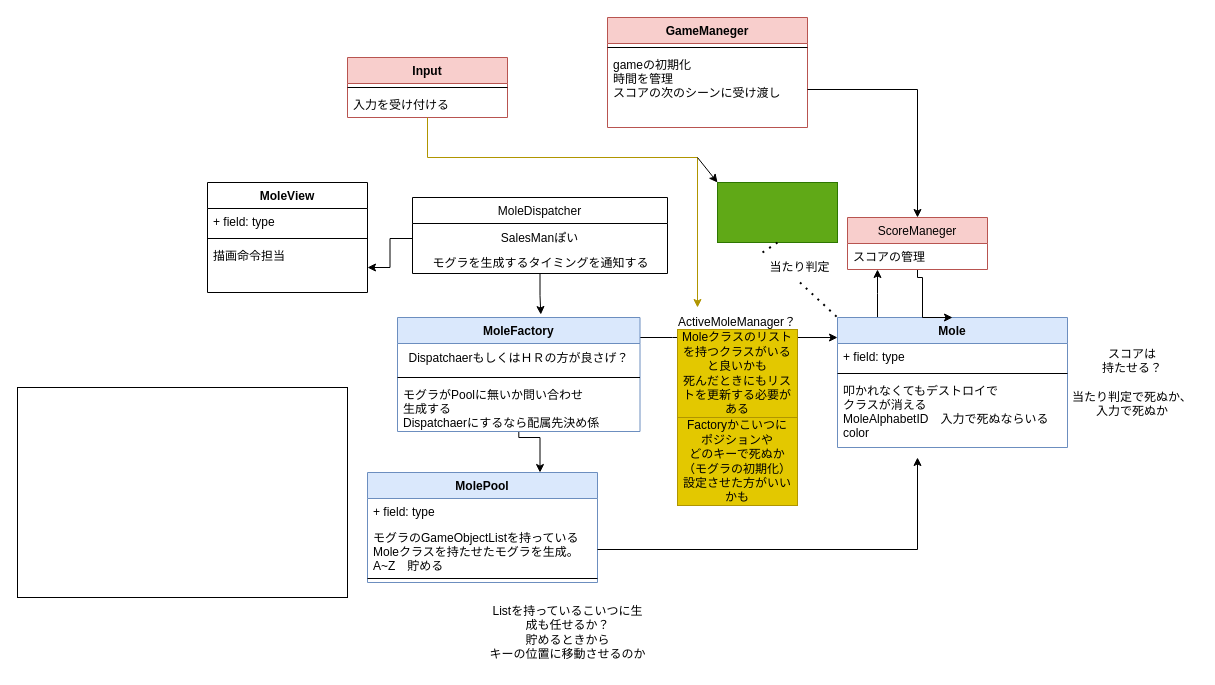
This 1215x685 diagram has some shape labels left out. The centre of each missing label's shape, as x and y in pixels:
"ハンマークラス 受け取った入力で移動して攻撃する" belongs at (x=777, y=212).
"何体画面に表示するか管理する奴が必要 どの場所に出現させるか指定する奴が必要" belongs at (x=182, y=492).
